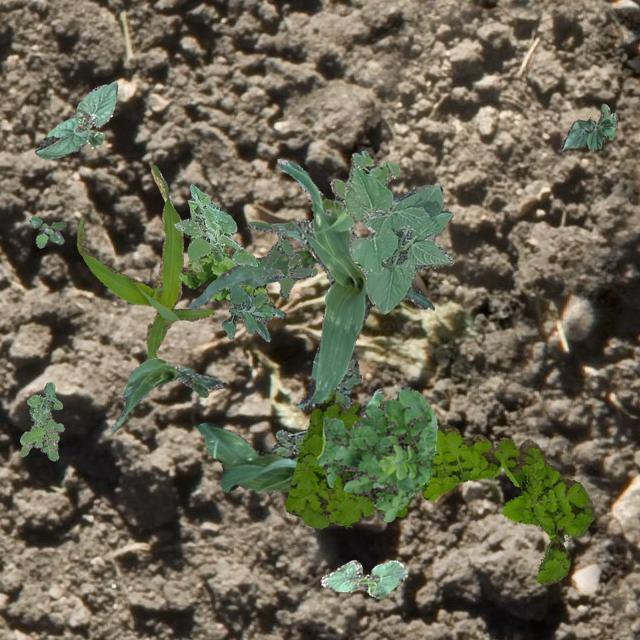crop: (277, 158, 433, 410), (75, 164, 214, 360), (196, 388, 384, 492), (343, 164, 452, 314), (188, 220, 316, 310), (110, 356, 224, 432), (34, 80, 116, 158), (319, 560, 406, 598), (560, 102, 616, 150)
weed: (284, 388, 594, 584), (314, 386, 436, 520), (268, 358, 359, 456), (174, 182, 258, 266), (177, 244, 273, 304), (260, 222, 316, 298), (328, 150, 399, 208), (220, 282, 284, 340), (18, 380, 62, 460), (28, 214, 66, 247)
